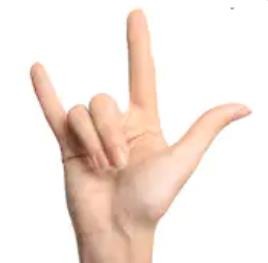back: (17, 6, 256, 222)
